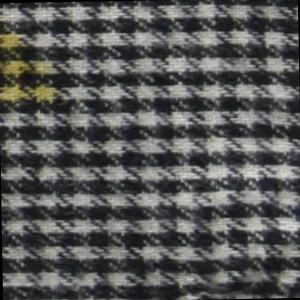Damage: (177, 271, 292, 300)
Stain: (1, 23, 62, 117)
